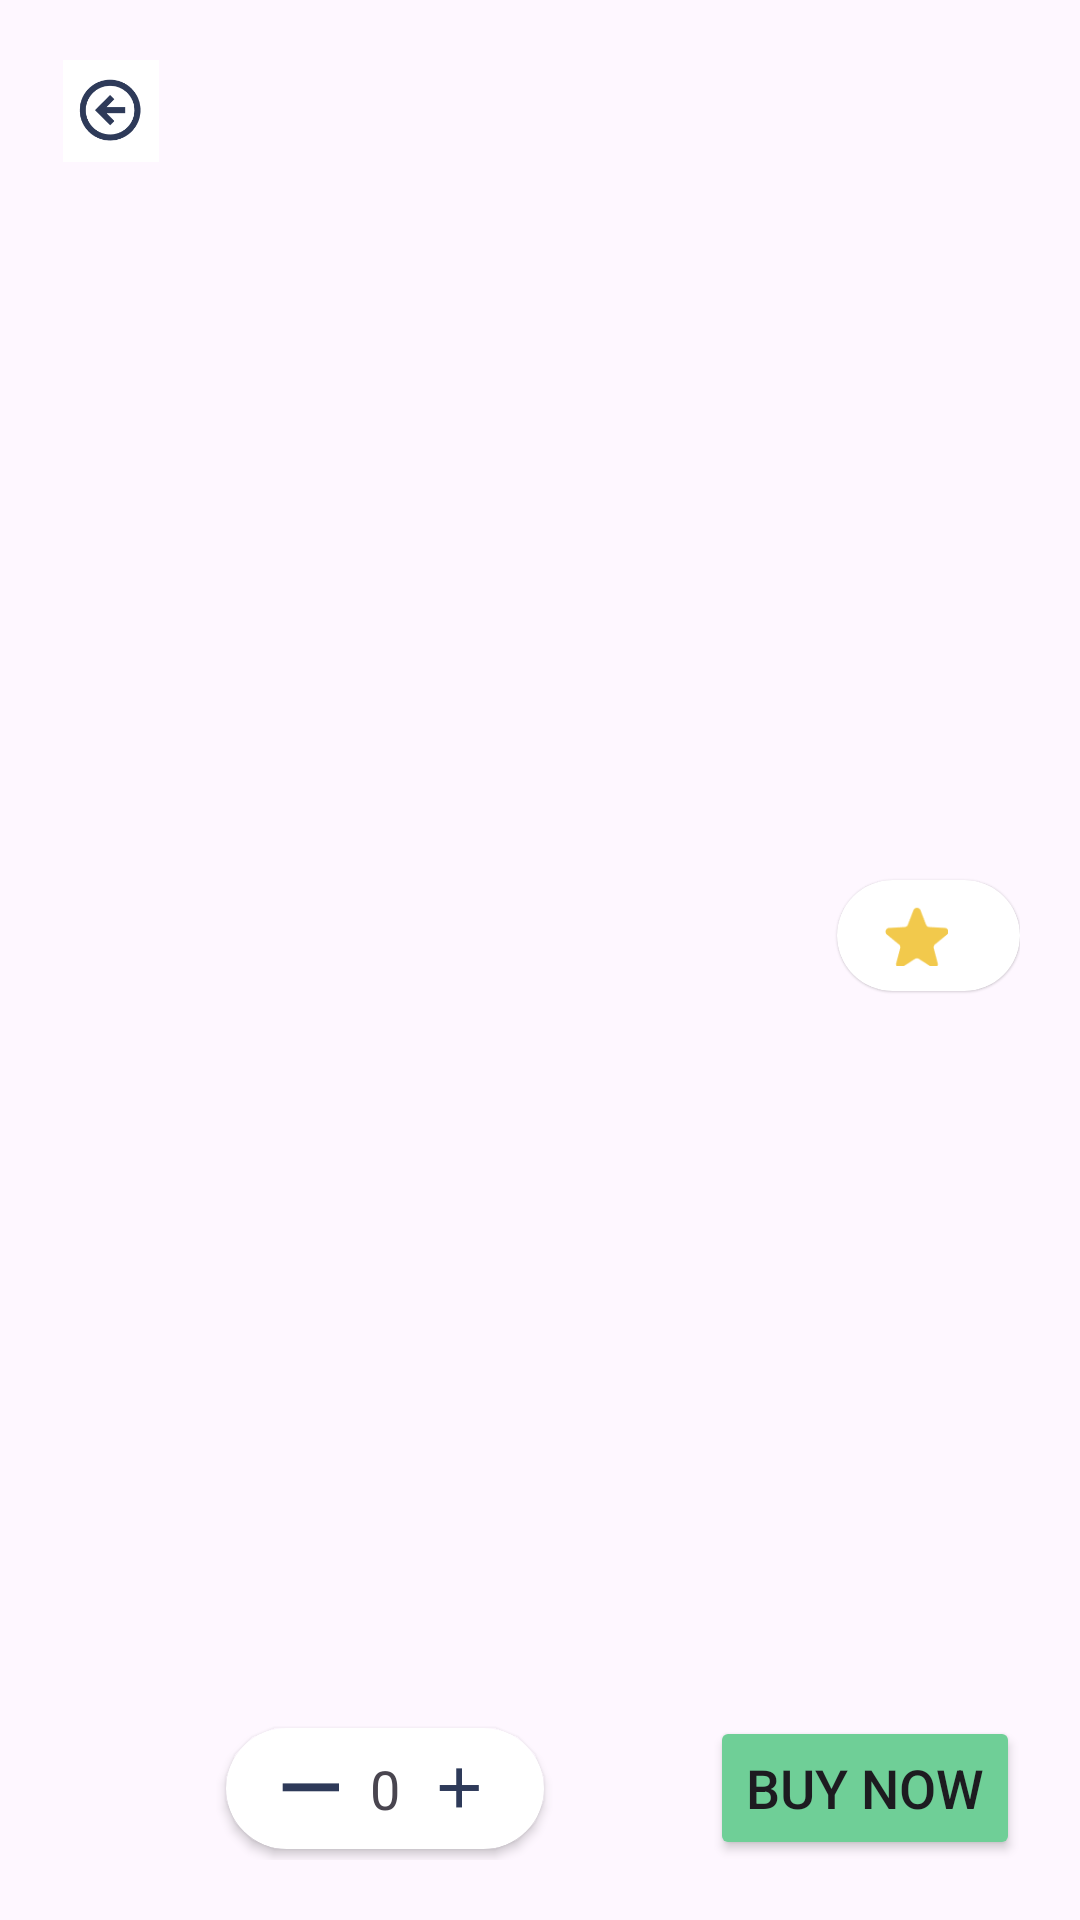

Icon bounding boxes for this 1080 × 1920 phone screenshot, format box=[x1, y1, x2, y2]:
back: box=[80, 79, 141, 141]
plus: box=[439, 1768, 479, 1808]
star: box=[885, 907, 948, 966]
